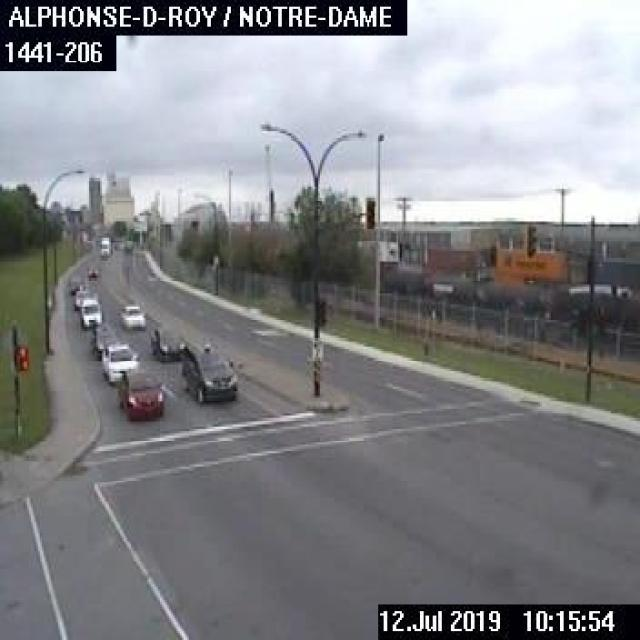vehicle: (180, 344, 236, 398), (118, 371, 163, 415), (98, 340, 140, 384), (146, 324, 184, 361), (116, 300, 149, 331), (89, 321, 114, 357), (76, 297, 100, 328), (72, 288, 89, 308), (96, 234, 110, 258), (82, 264, 99, 280)
